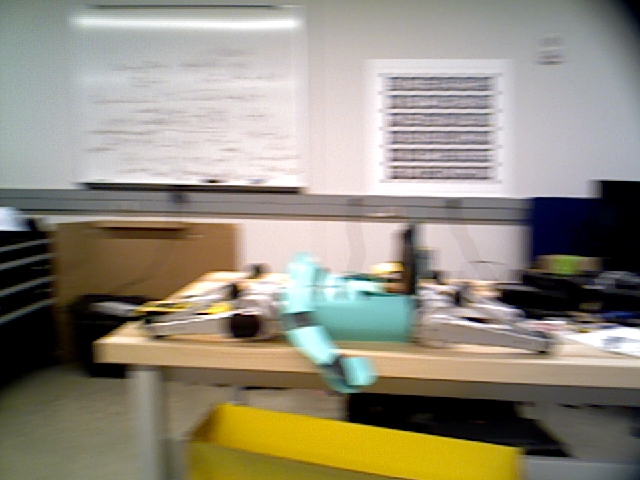painting4: (366, 58, 512, 195)
